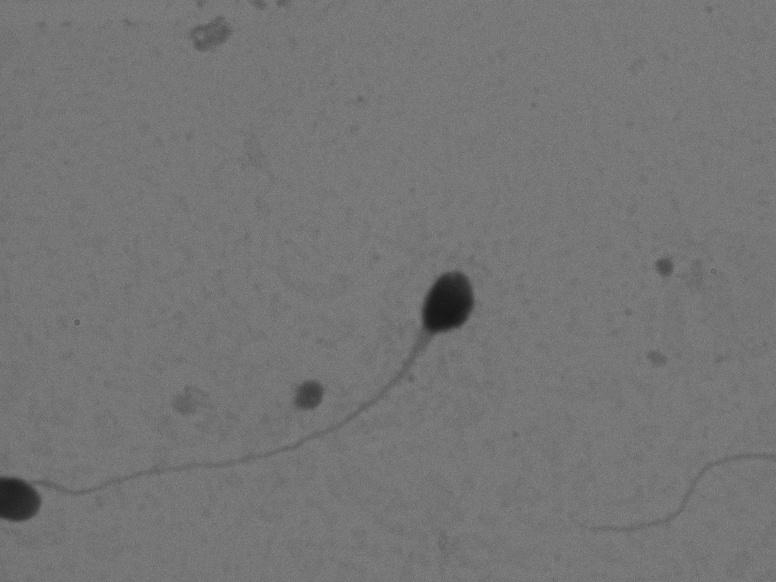Abnormal: (40, 247, 505, 519)
